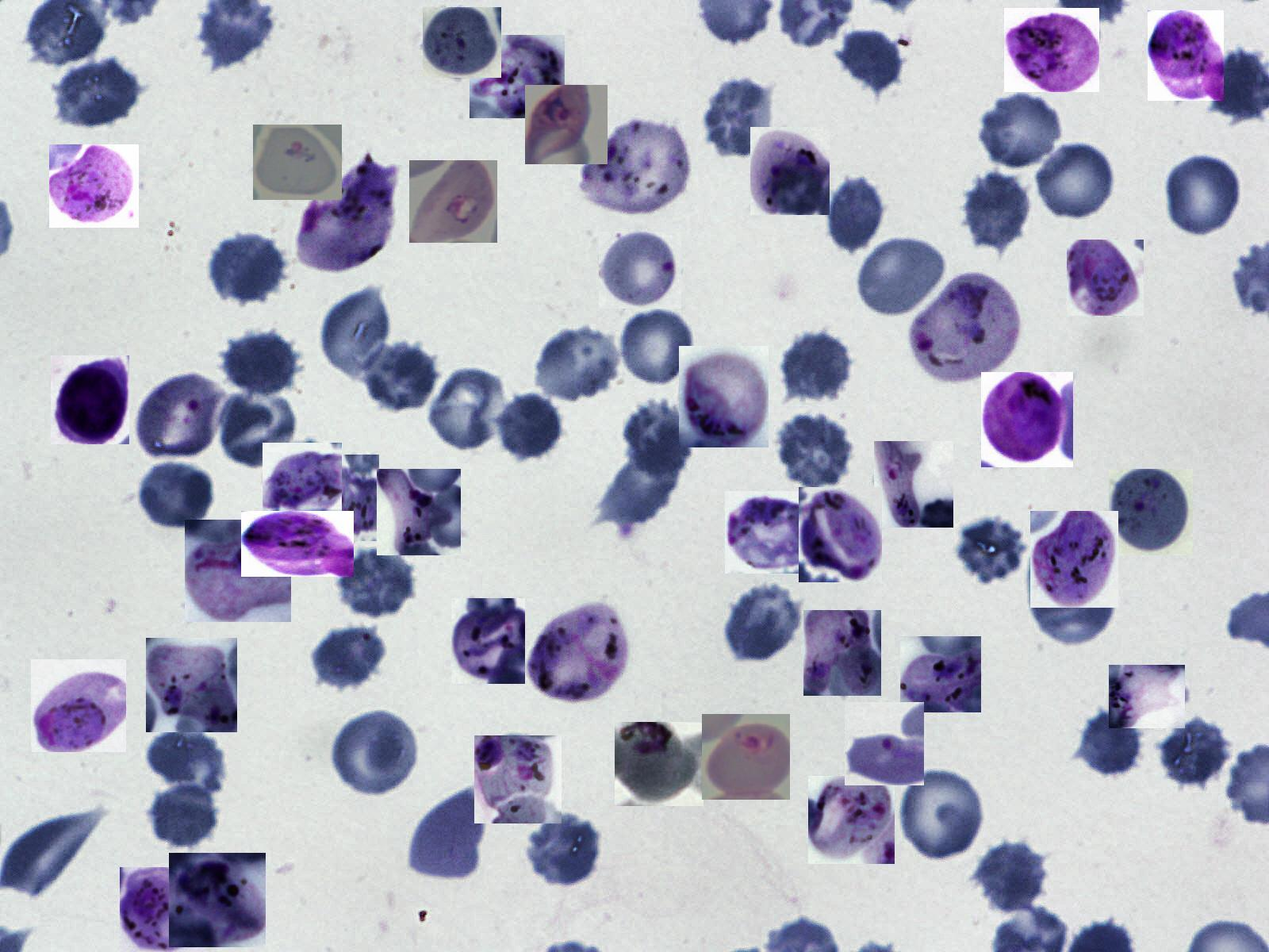Infected: (911, 274, 1022, 381), (297, 158, 396, 271), (585, 118, 692, 221), (185, 520, 291, 622), (529, 601, 628, 707), (169, 853, 266, 947), (679, 347, 769, 447), (31, 659, 126, 752), (136, 369, 228, 464), (981, 372, 1073, 467), (146, 638, 237, 732), (1030, 511, 1118, 608), (1004, 8, 1099, 92), (799, 487, 882, 582), (470, 36, 565, 118), (474, 735, 562, 823), (808, 776, 895, 864), (703, 714, 791, 800), (615, 722, 704, 806), (50, 144, 139, 228), (725, 491, 815, 574), (241, 511, 354, 577), (409, 160, 497, 243), (1109, 469, 1193, 555), (377, 470, 461, 556), (120, 867, 204, 952), (750, 127, 830, 215), (51, 355, 129, 444), (1148, 10, 1224, 101), (874, 441, 953, 528), (803, 610, 881, 696), (253, 125, 342, 200), (845, 702, 924, 785), (525, 86, 608, 165), (451, 598, 525, 684), (599, 232, 681, 309), (900, 636, 981, 712), (263, 443, 342, 518), (1067, 240, 1144, 316), (423, 7, 501, 78), (1109, 665, 1185, 728), (324, 455, 379, 541)
Uninfected: (595, 435, 688, 532), (897, 765, 989, 862), (329, 707, 422, 800), (408, 781, 491, 884), (854, 233, 949, 320), (1033, 555, 1120, 648), (424, 365, 511, 454), (46, 56, 146, 132), (533, 323, 624, 402), (1034, 140, 1119, 223), (319, 284, 394, 378), (214, 384, 295, 470), (978, 91, 1066, 170), (702, 74, 781, 160), (1167, 151, 1244, 238), (618, 306, 699, 388), (773, 412, 857, 489), (725, 583, 805, 662), (144, 723, 228, 798), (524, 811, 604, 889), (623, 397, 700, 478), (359, 336, 440, 412), (952, 511, 1030, 589), (335, 547, 418, 619), (779, 328, 856, 405), (959, 171, 1033, 251), (1156, 713, 1231, 790), (822, 173, 891, 256), (221, 326, 300, 397), (972, 841, 1049, 912), (144, 781, 218, 853), (305, 624, 388, 688), (142, 462, 215, 532), (208, 236, 283, 304), (834, 25, 905, 94), (493, 390, 562, 460), (1074, 710, 1141, 776)
